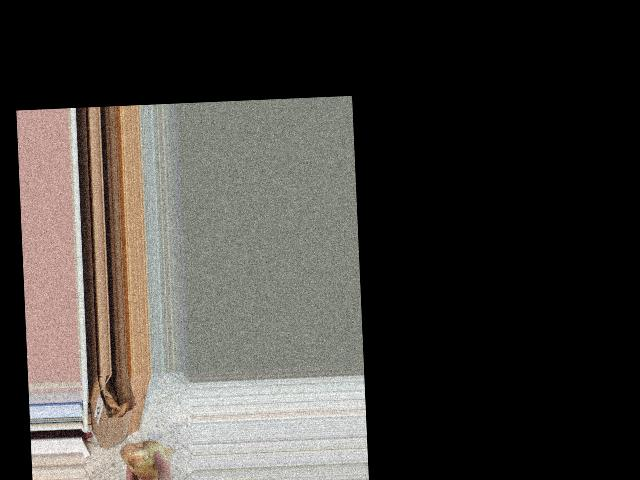onion: (119, 432, 172, 480)
